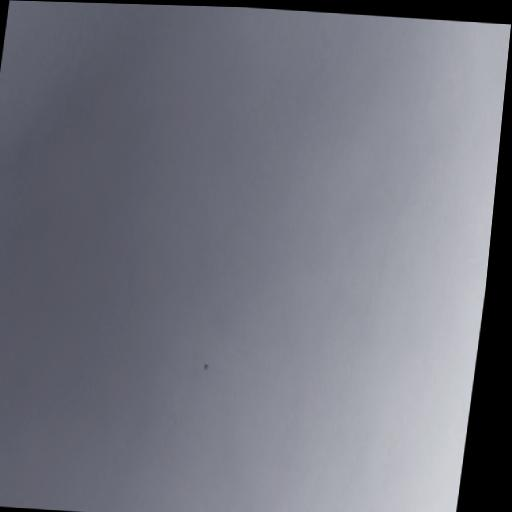drones: (201, 361, 210, 372)
